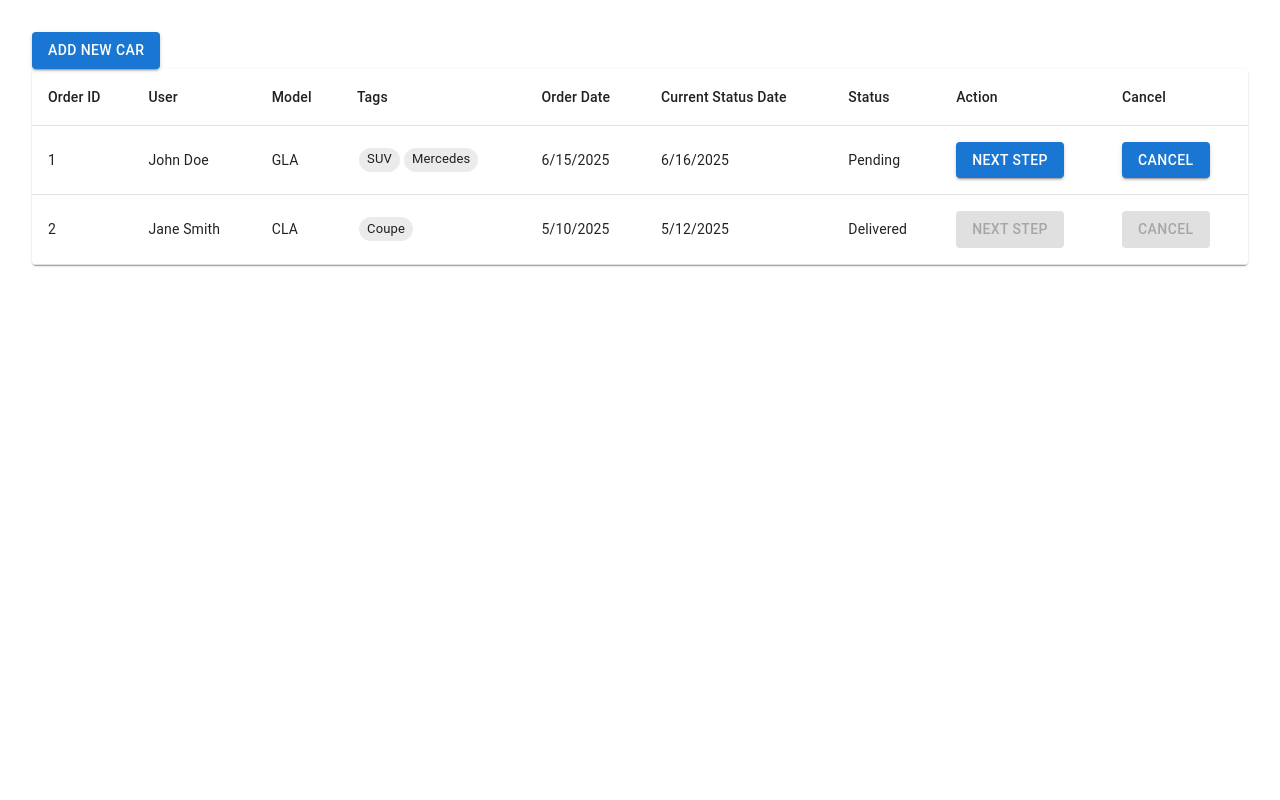
OrderTable › displays error message when product creation fails
This screenshot has width=1280, height=800.
Click the button "Add new Car". click: (96, 50)
box: [32, 32, 160, 68]
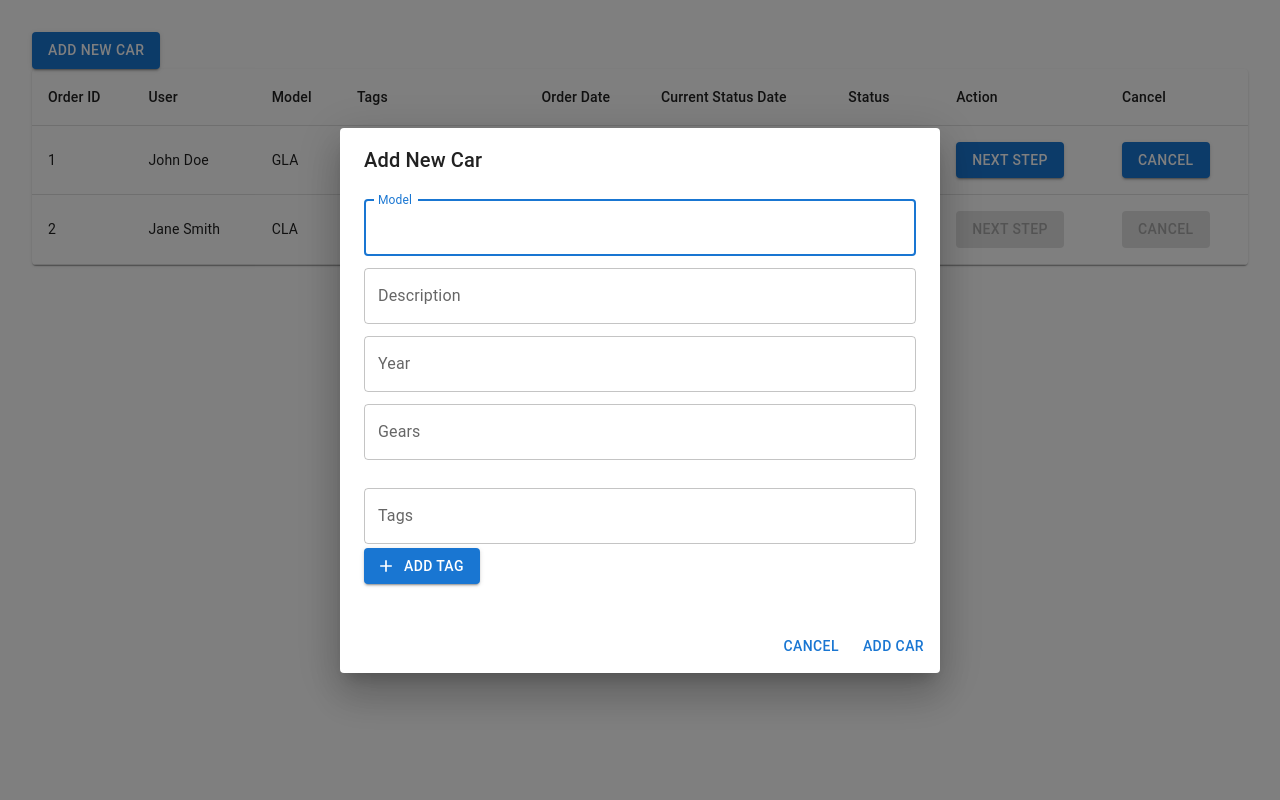
Type "GLA" into the field labelled "Model". click: (640, 228)
box: [364, 200, 916, 256]
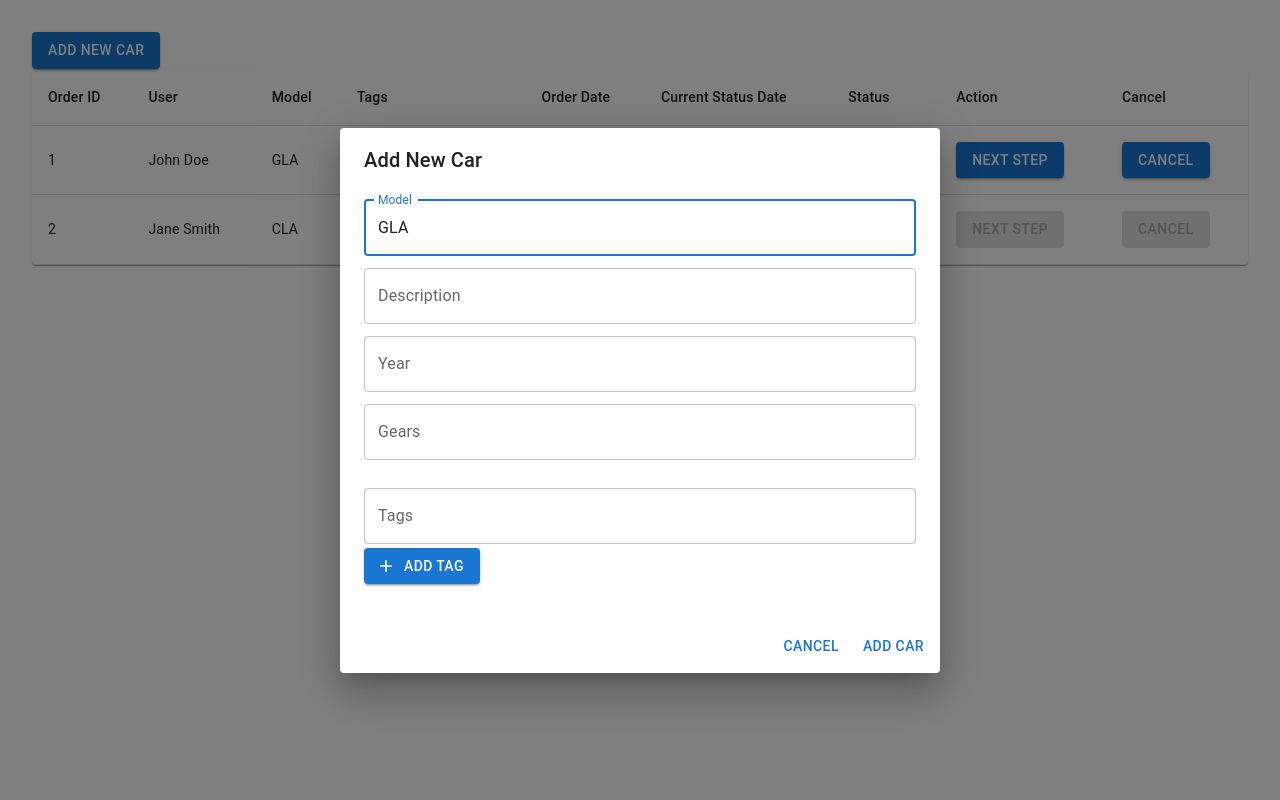
Type "bad" into the field labelled "Description". click: (640, 296)
box: [364, 268, 916, 324]
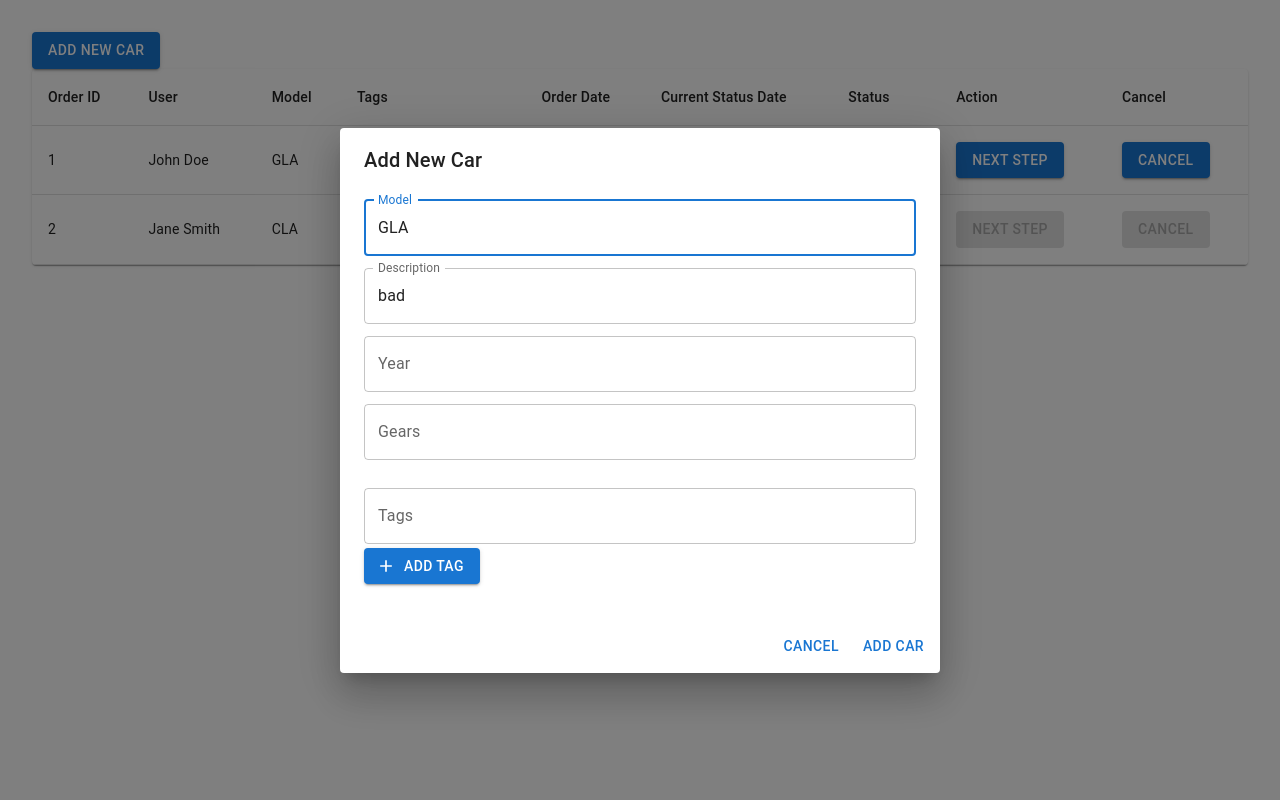
Type "2021" into the number field labelled "Year". click: (640, 364)
box: [364, 336, 916, 392]
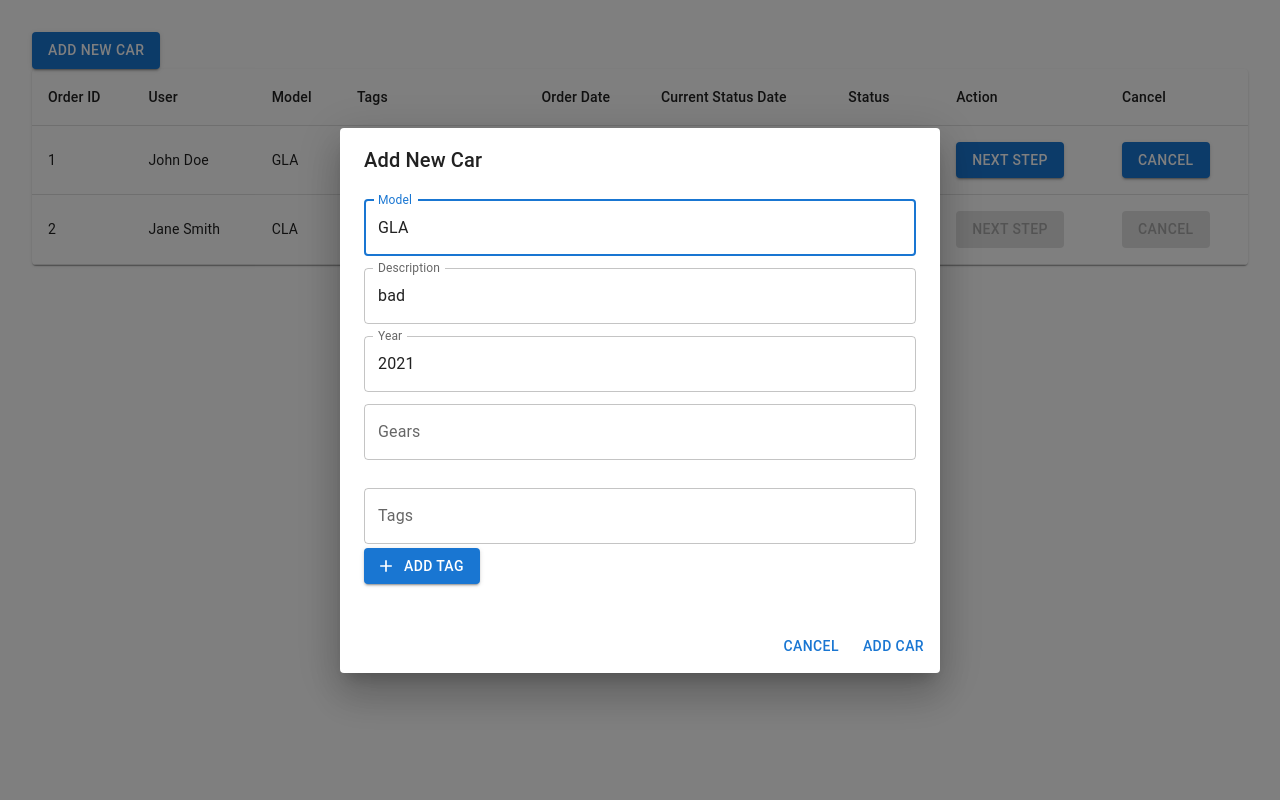
Type "6" into the number field labelled "Gears". click: (640, 432)
box: [364, 404, 916, 460]
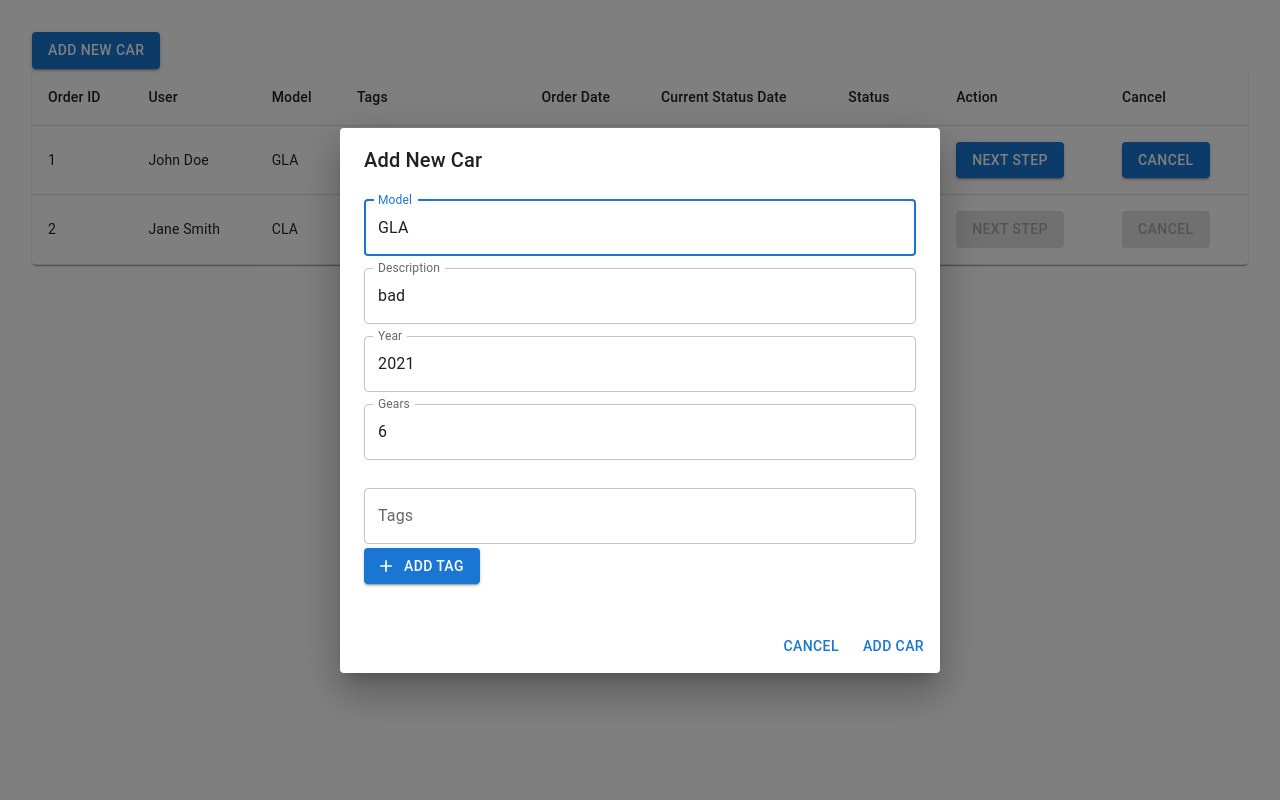
Click the button "Add Car". click: (893, 646)
box: [855, 628, 932, 664]
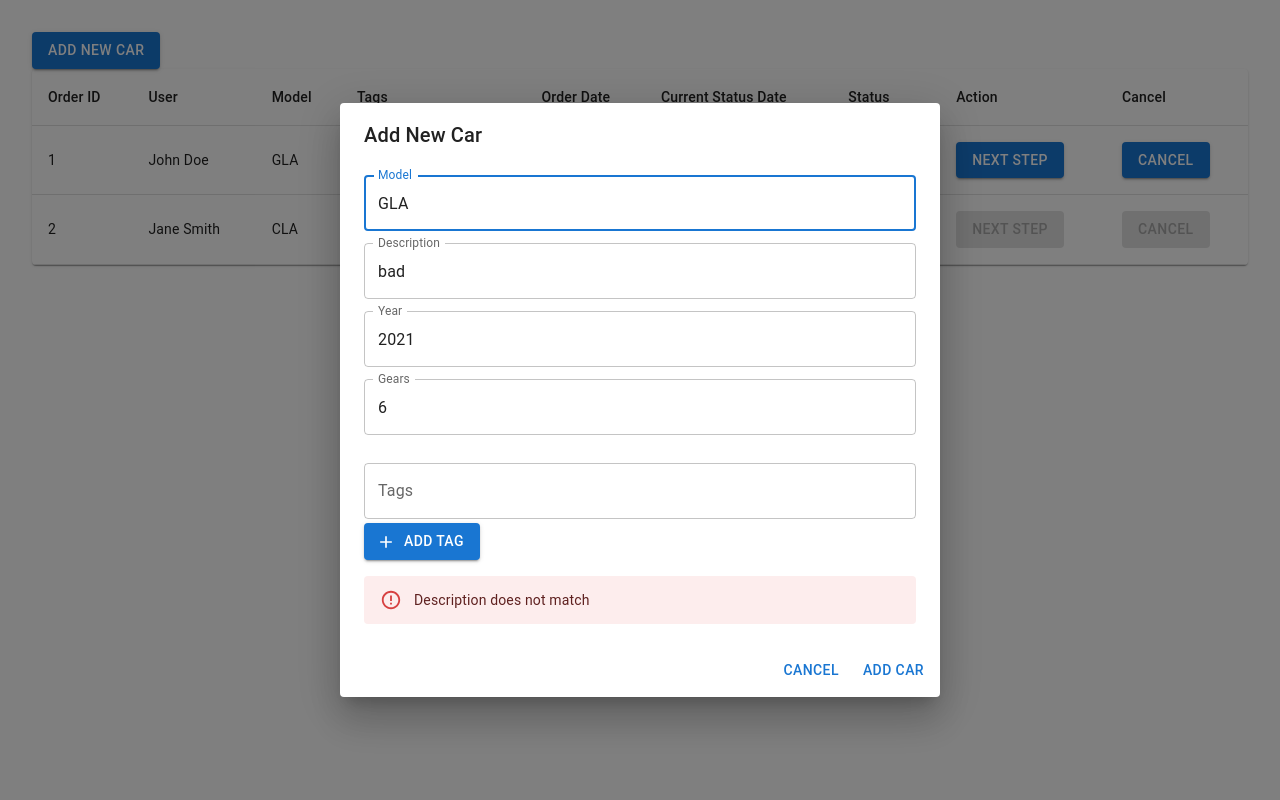
Now the text "Description does not match" is shown, box [414, 592, 590, 608]
